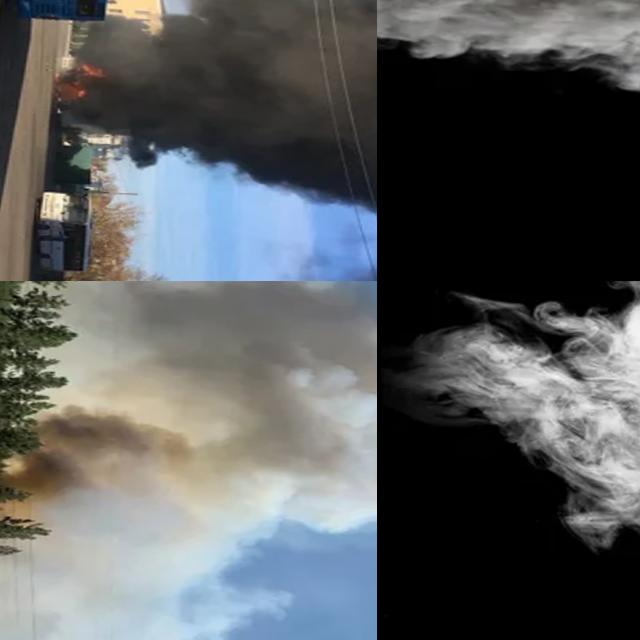smoke: (0, 281, 377, 546), (85, 0, 377, 234), (399, 281, 640, 562), (377, 0, 640, 109)
